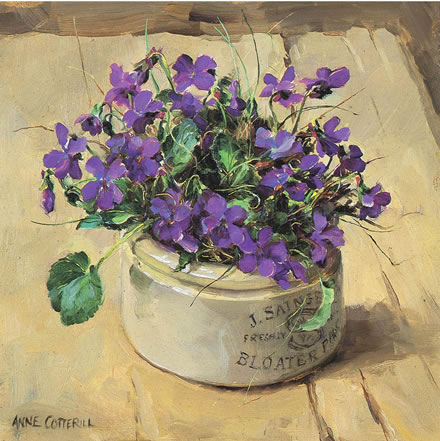violet: (59, 60, 387, 287)
